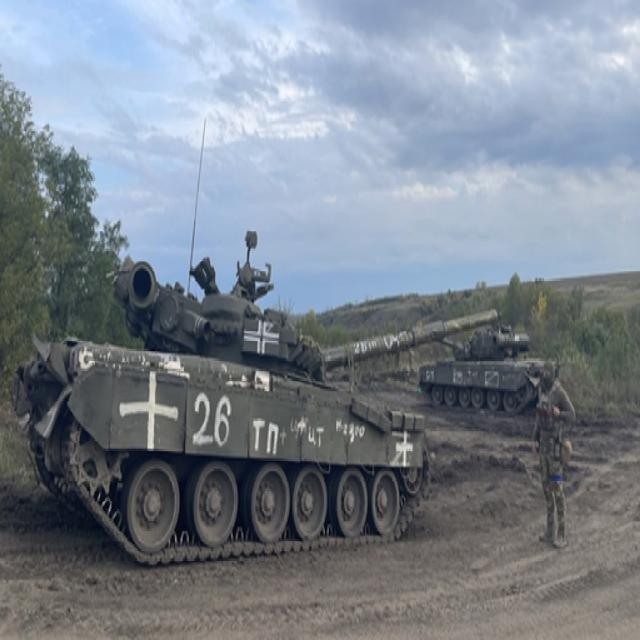TANK: (21, 231, 499, 580), (414, 311, 560, 416)
